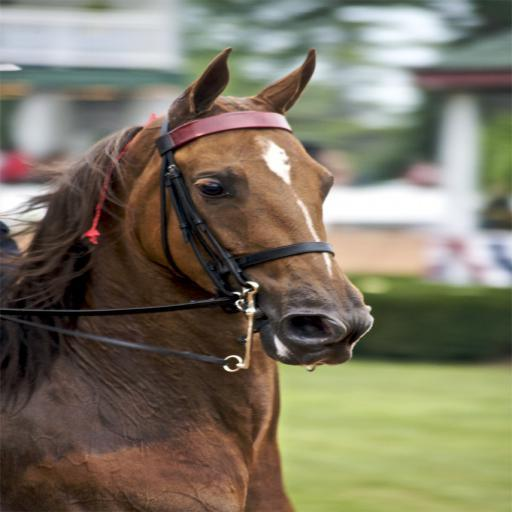Horse: (0, 47, 379, 512)
